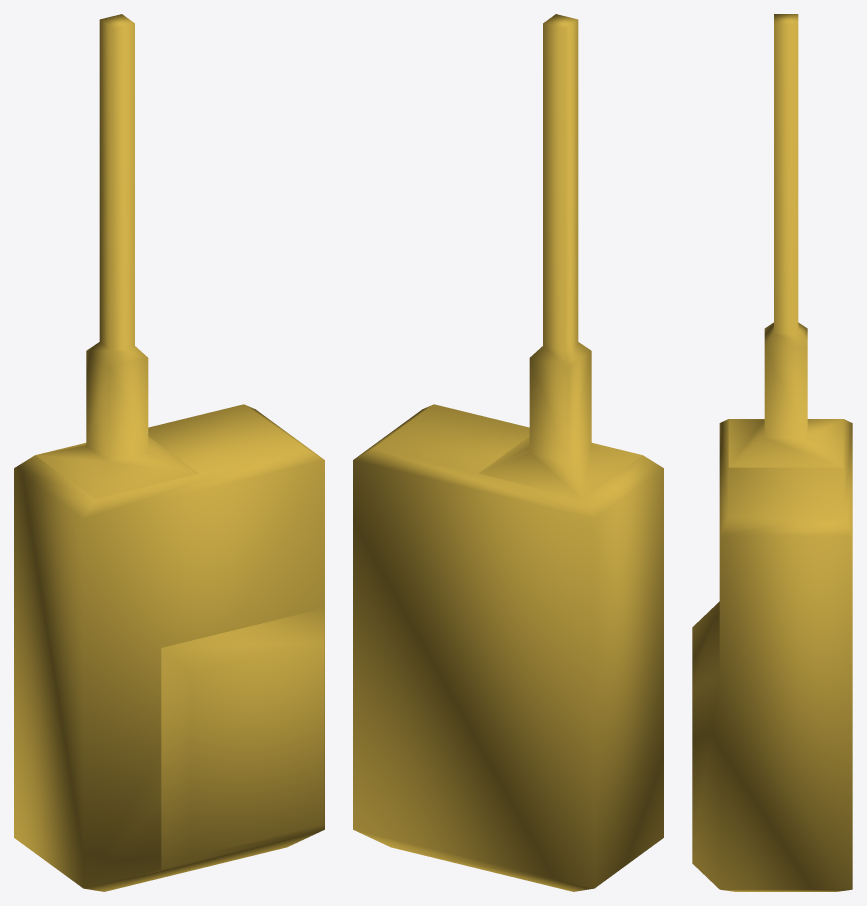
The model's file is radioicon.fbx.
3 views of the same model, side by side, from view 1: azimuth 30°, elevation 25°; view 2: azimuth 150°, elevation 25°; view 3: azimuth 270°, elevation 25° (orthographic). The views are drawn at different scales.
Parts seen in each view (by area): view 1: Radio; view 2: Radio; view 3: Radio.
Boxes of the visible parts, bbox=[...] form: Radio: bbox=[14, 14, 324, 891]; Radio: bbox=[353, 14, 663, 891]; Radio: bbox=[692, 14, 852, 891].
Bounding box in the file's own units: 1.37 × 4.55 × 0.8201.
